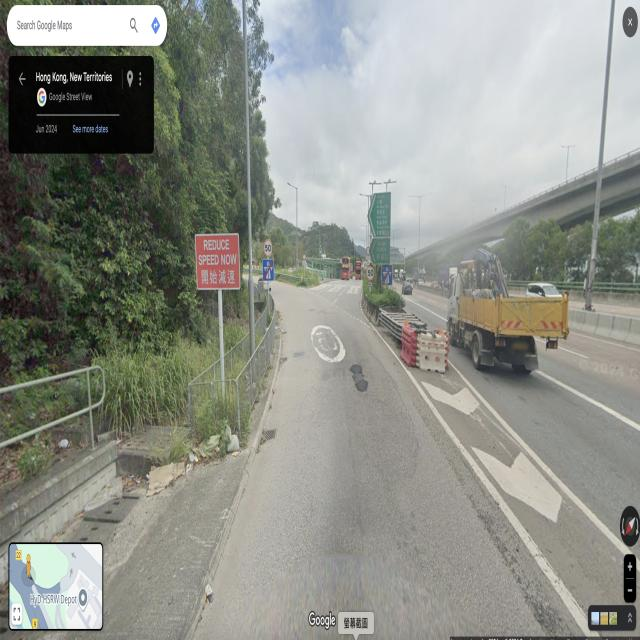Direction-Sign: (368, 193, 391, 237), (369, 238, 391, 264)
Order-Sign: (264, 240, 272, 257), (366, 265, 375, 280), (302, 254, 306, 260)
Warning-Sign: (195, 232, 240, 290)
